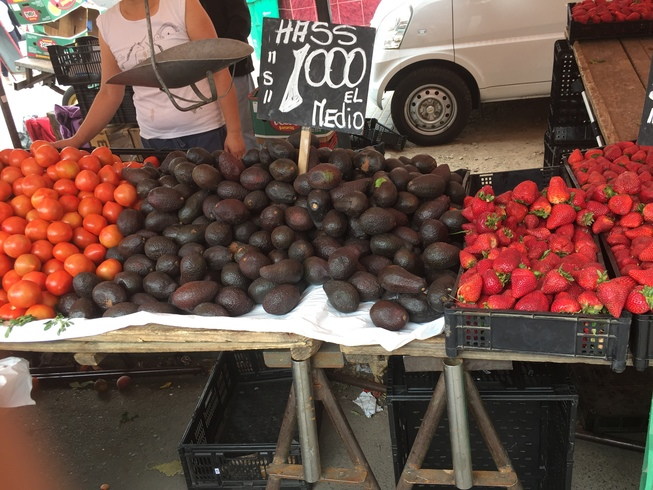precio: (245, 16, 387, 131)
